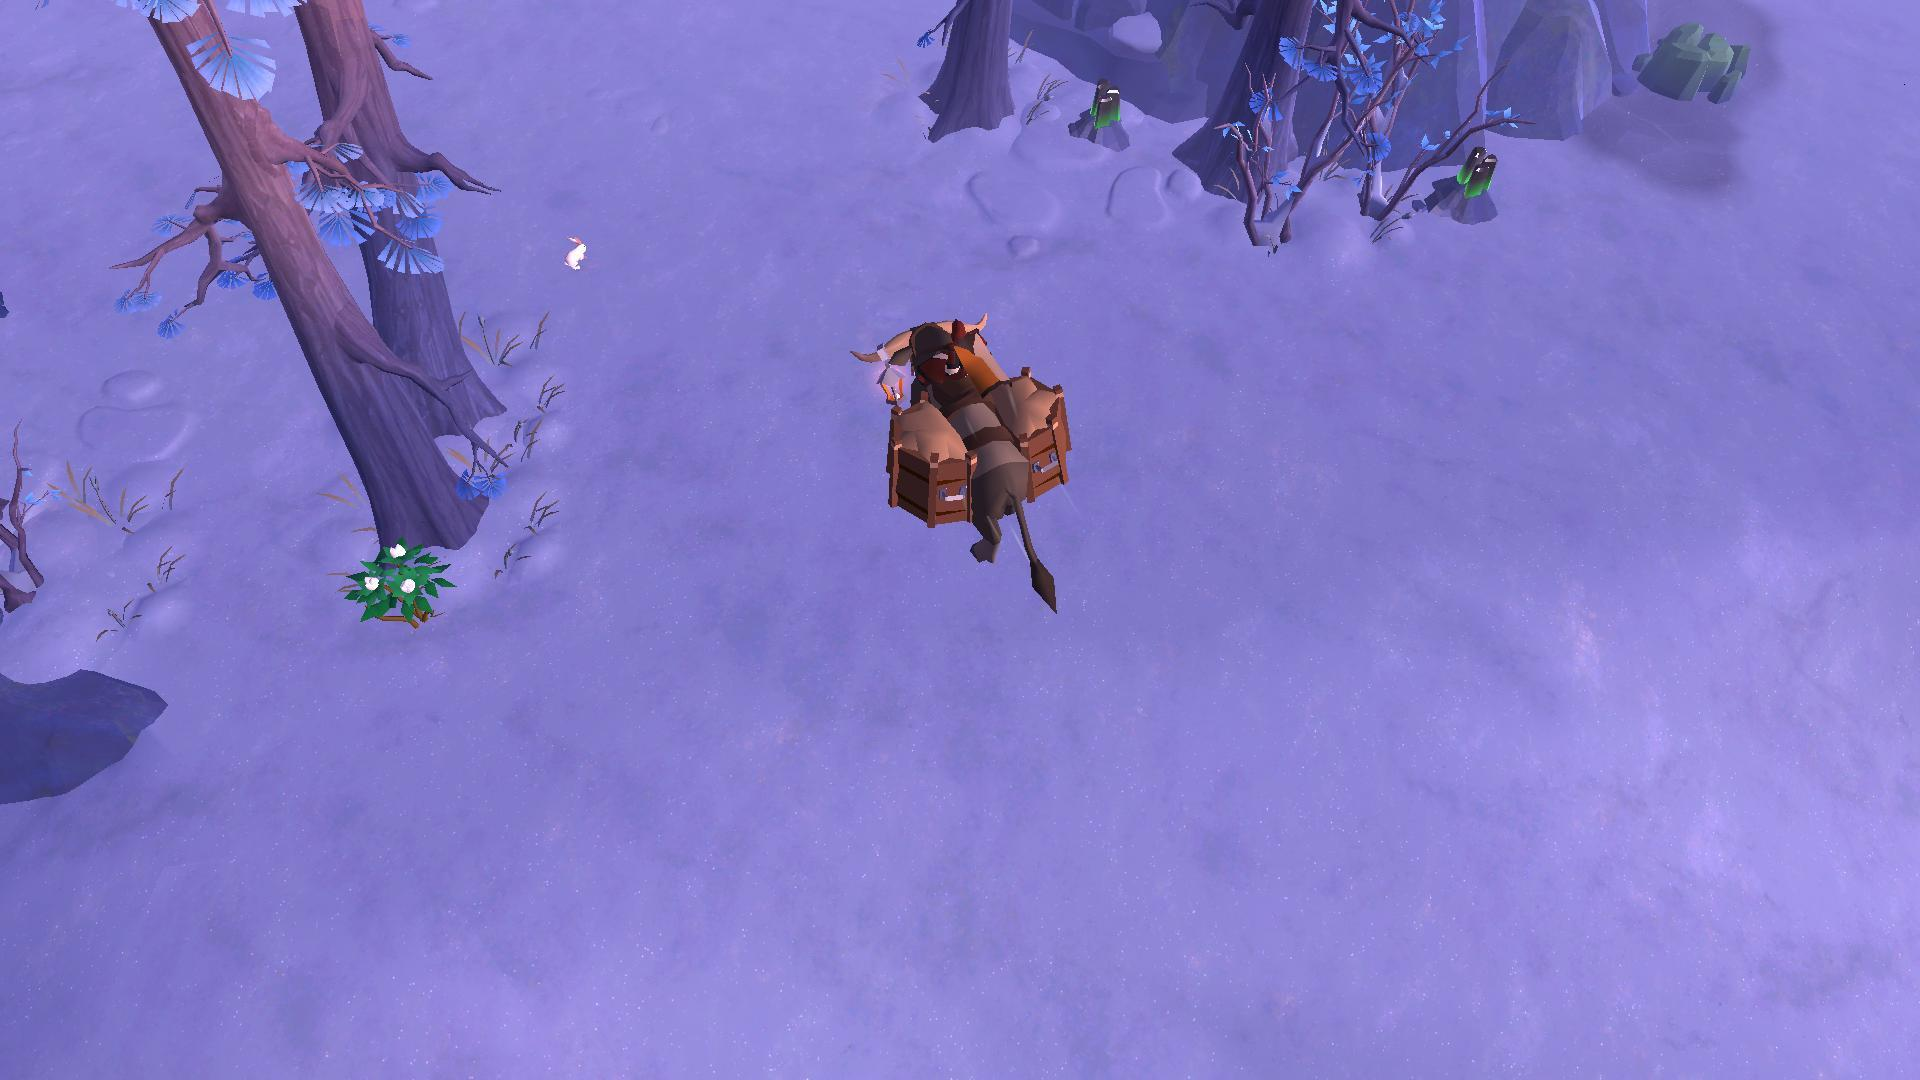fiber_t3: (348, 537, 456, 630)
ore_t3: (1449, 145, 1498, 199), (1081, 82, 1125, 129)
rock_t3: (1627, 25, 1753, 104)
